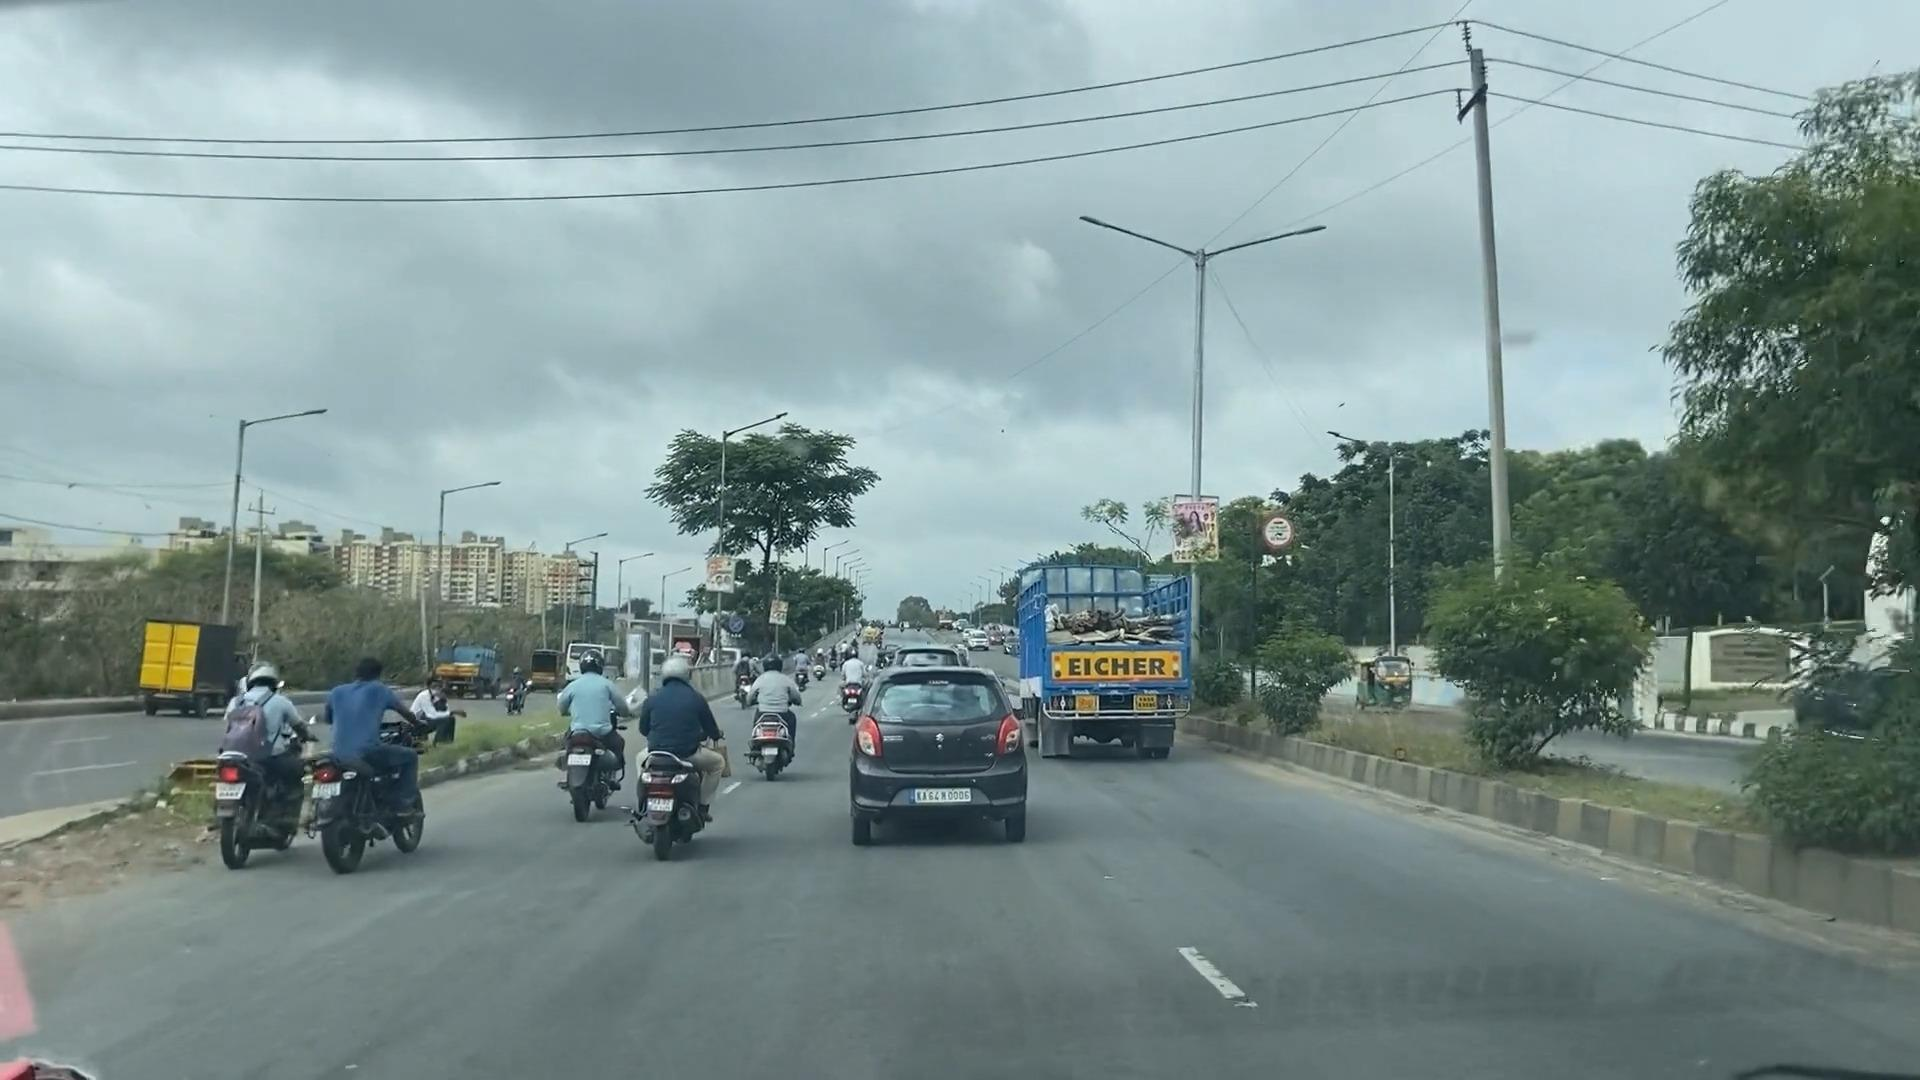HMV: (1034, 570, 1172, 750)
LMV: (851, 670, 1026, 839), (316, 676, 418, 882), (626, 650, 713, 862), (220, 667, 286, 878), (563, 657, 613, 822), (740, 657, 800, 786)
